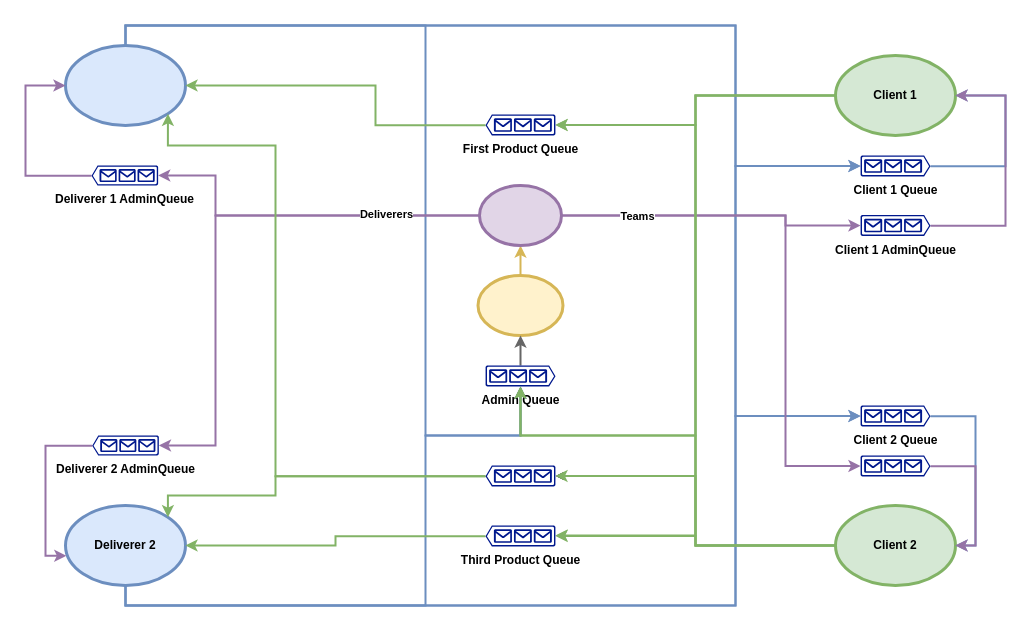
The diagram is 1031 pixels wide and 631 high, and some of its shapes have lost their labels. The shapes that lost their labels are listed below. From the top down, each one's centre as x and y in pixels, then its label:
At [125,85]: "Deliverer 1".
At [520,215]: "exchange1".
At [520,305]: "Admin".
At [520,475]: "Second Product Queue".
At [895,465]: "Client 2 AdminQueue".
